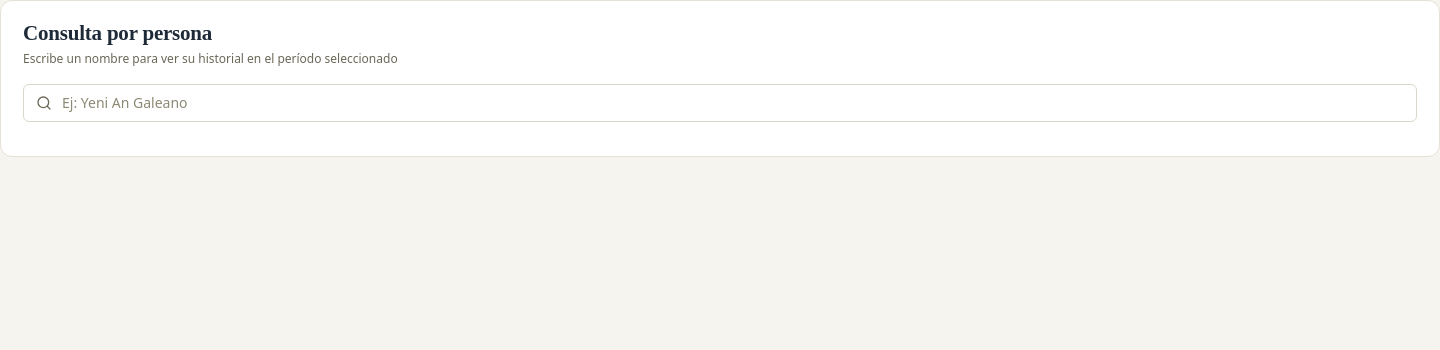
ConsultaPersona › busca sin tildes ni mayúsculas y muestra fecha y horas en formato local
Type "JOSE" into the search field named "Buscar por nombre".
click(732, 103); type("JOSE")  # box [60,93,1404,113]
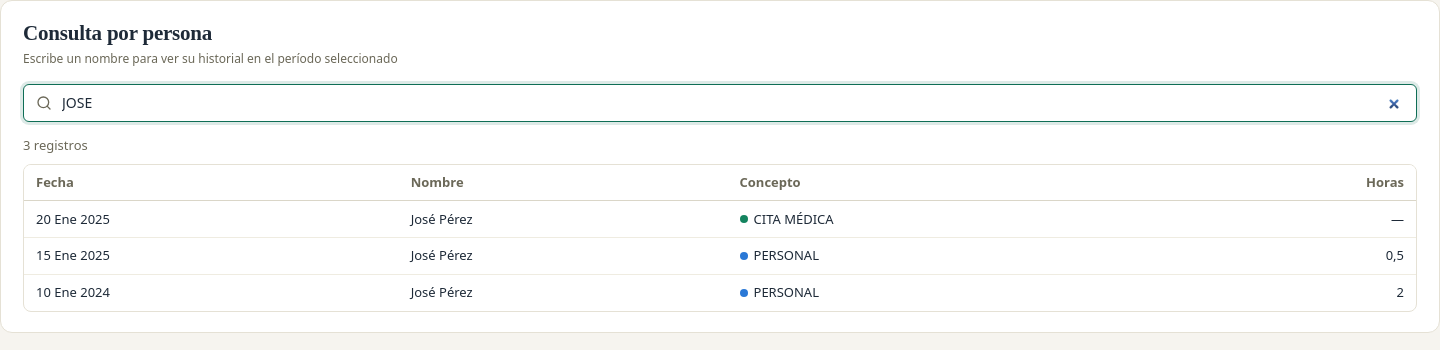
Expected: the text "3 registros" is shown, [23,136,88,154]
Expected: the row "20 Ene 2025 José Pérez CITA MÉDICA —" is shown, [24,201,1416,238]
Expected: the row "10 Ene 2024 José Pérez PERSONAL 2" is shown, [24,274,1416,311]
